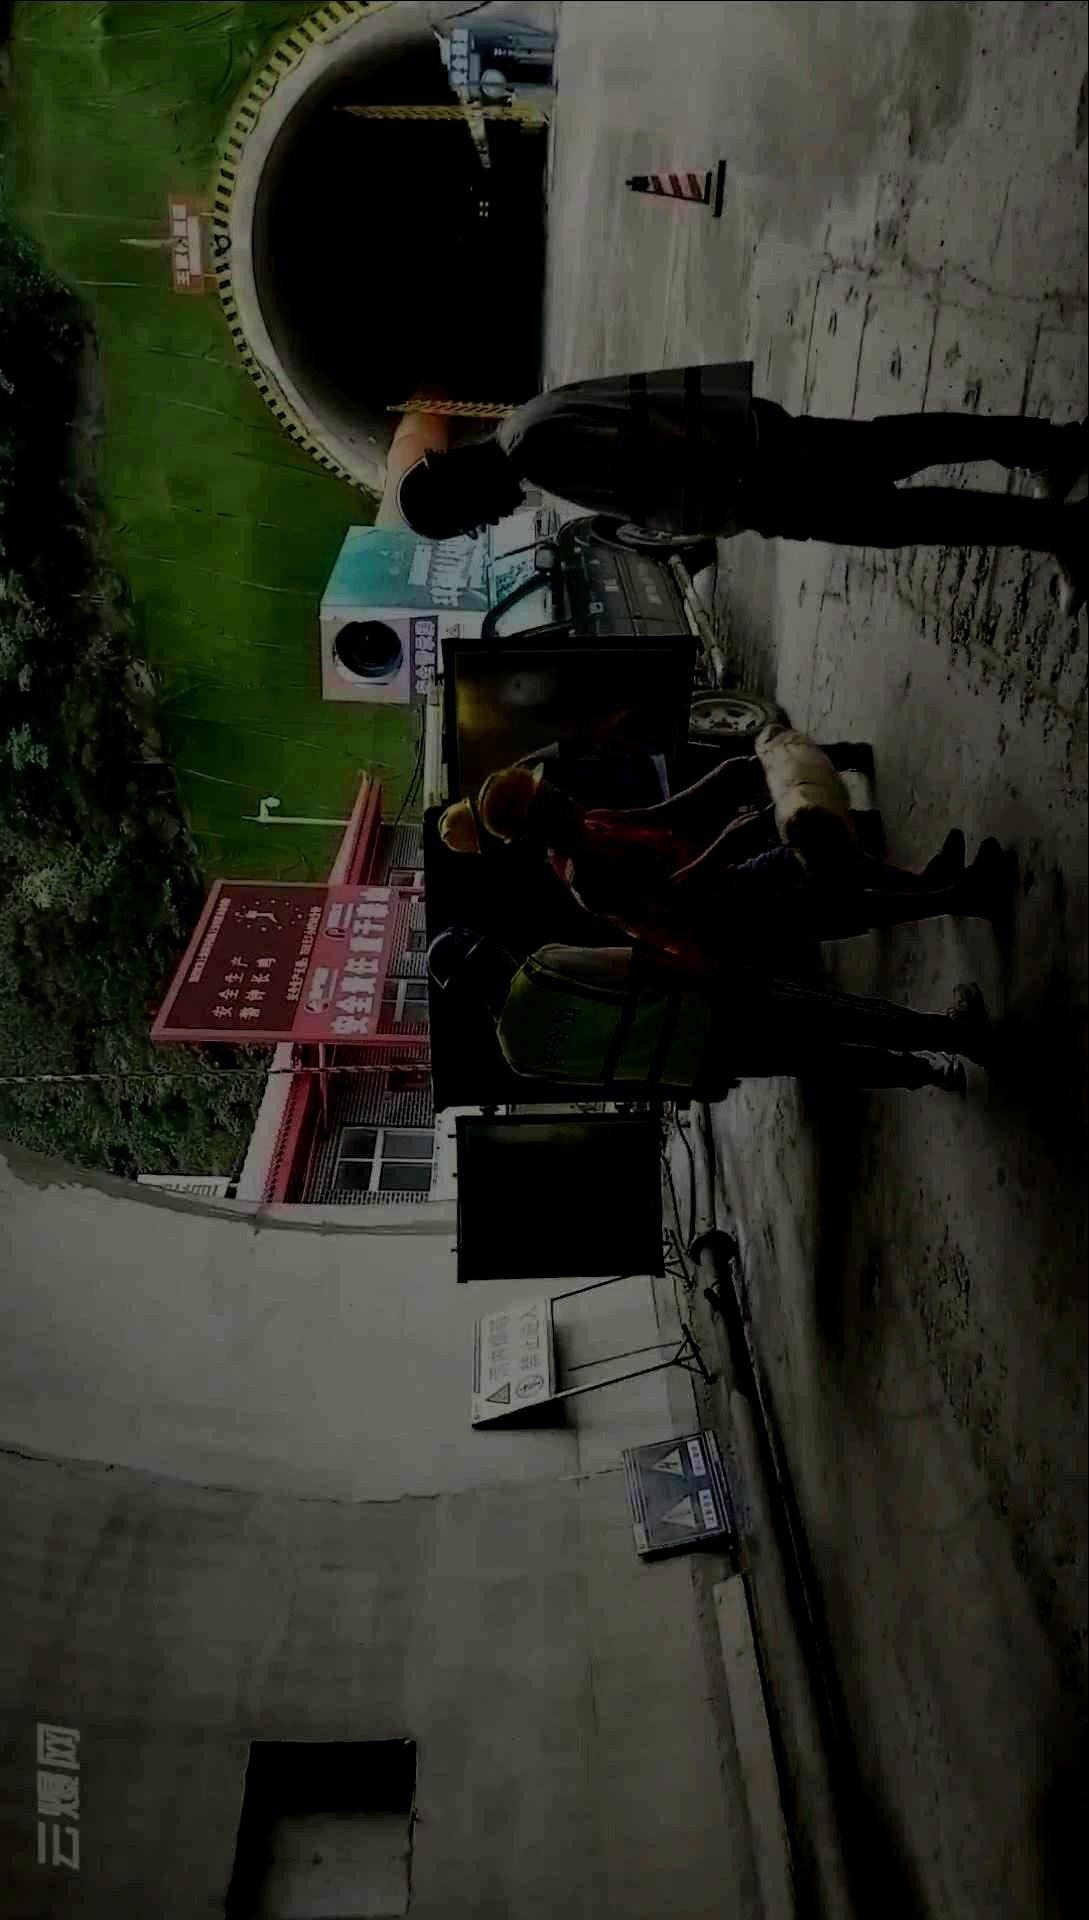helmet: (396, 435, 527, 542), (476, 764, 563, 845), (426, 928, 490, 992), (436, 796, 484, 856)
